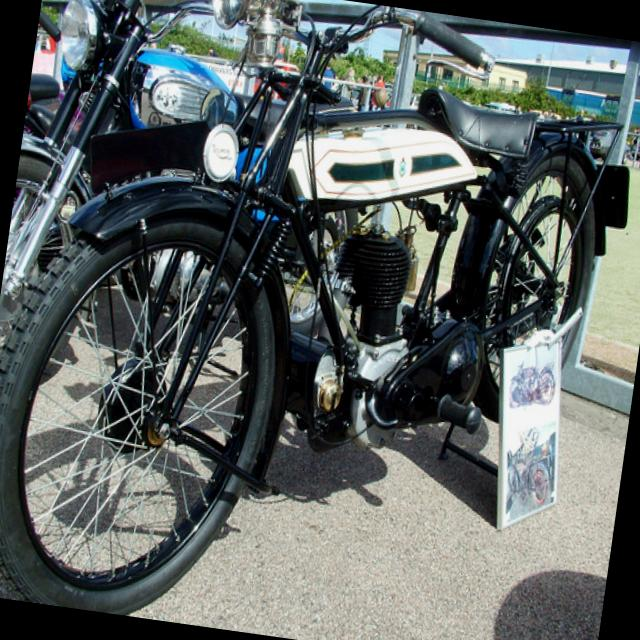Vehicle: (0, 0, 640, 640), (0, 0, 265, 434), (20, 0, 75, 155)
